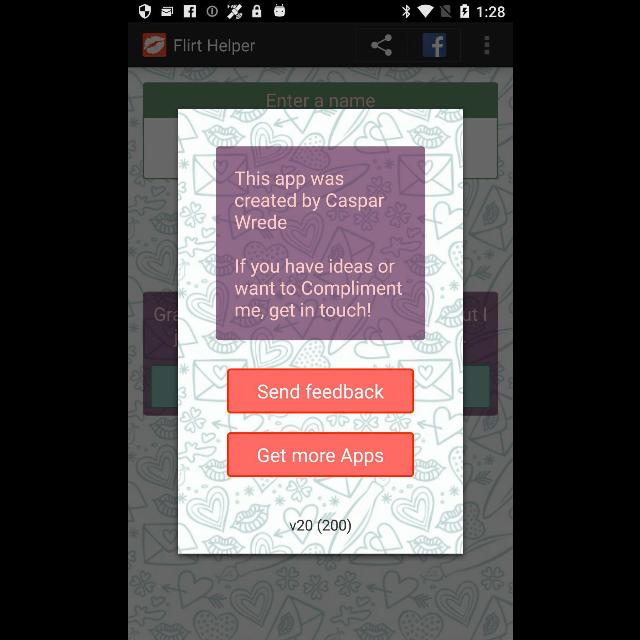icon: (422, 33, 446, 57), (370, 35, 390, 57), (483, 35, 489, 55)
image: (142, 34, 166, 56)
panel: (178, 110, 462, 552)
text: (234, 258, 402, 320), (233, 170, 384, 230), (174, 38, 254, 56), (290, 516, 350, 534)
textbutton: (226, 432, 414, 478), (226, 370, 414, 414)
uppertaskbar: (128, 1, 512, 23)
